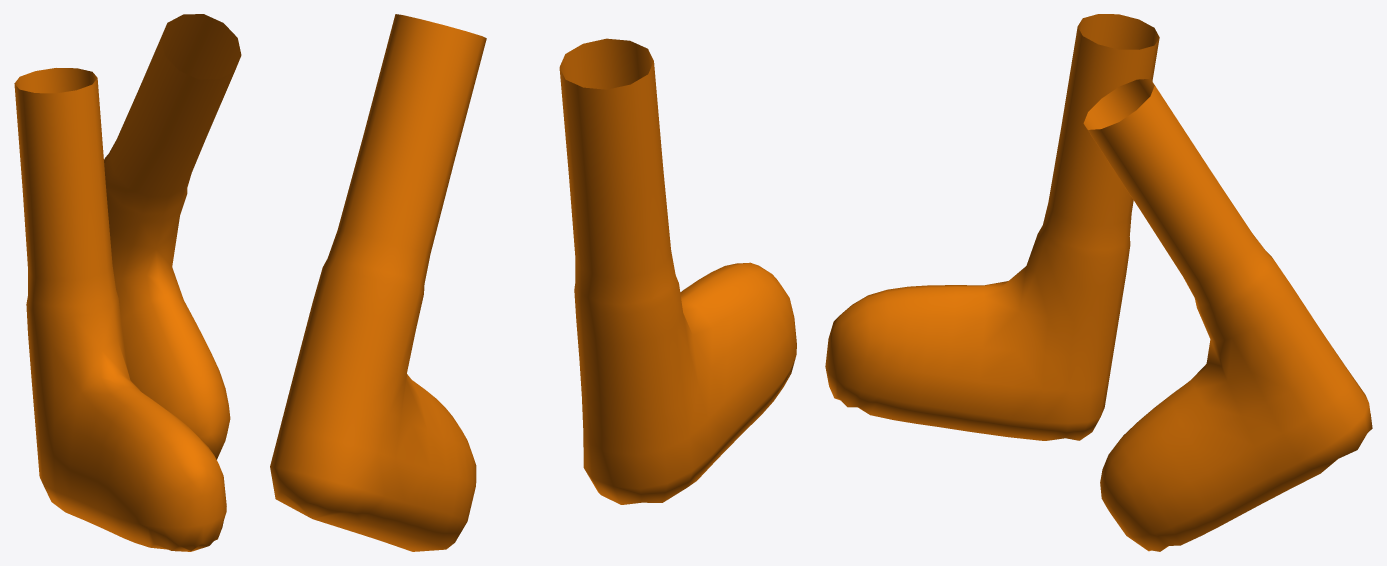
The model's file is boots.fbx.
3 renders of one model, left to right at view 1: azimuth 30°, elevation 25°; view 2: azimuth 150°, elevation 25°; view 3: azimuth 270°, elevation 25°, orthographic. The views are drawn at different scales.
Parts seen in each view (by area): view 1: Body1; view 2: Body1; view 3: Body1.
Part boxes in pixels (left/top/right/bottom): Body1: left=14, top=14, right=241, bottom=551; Body1: left=270, top=14, right=796, bottom=551; Body1: left=825, top=14, right=1372, bottom=551.
Size of the model in its own units: 0.911 by 1.69 by 1.81.
